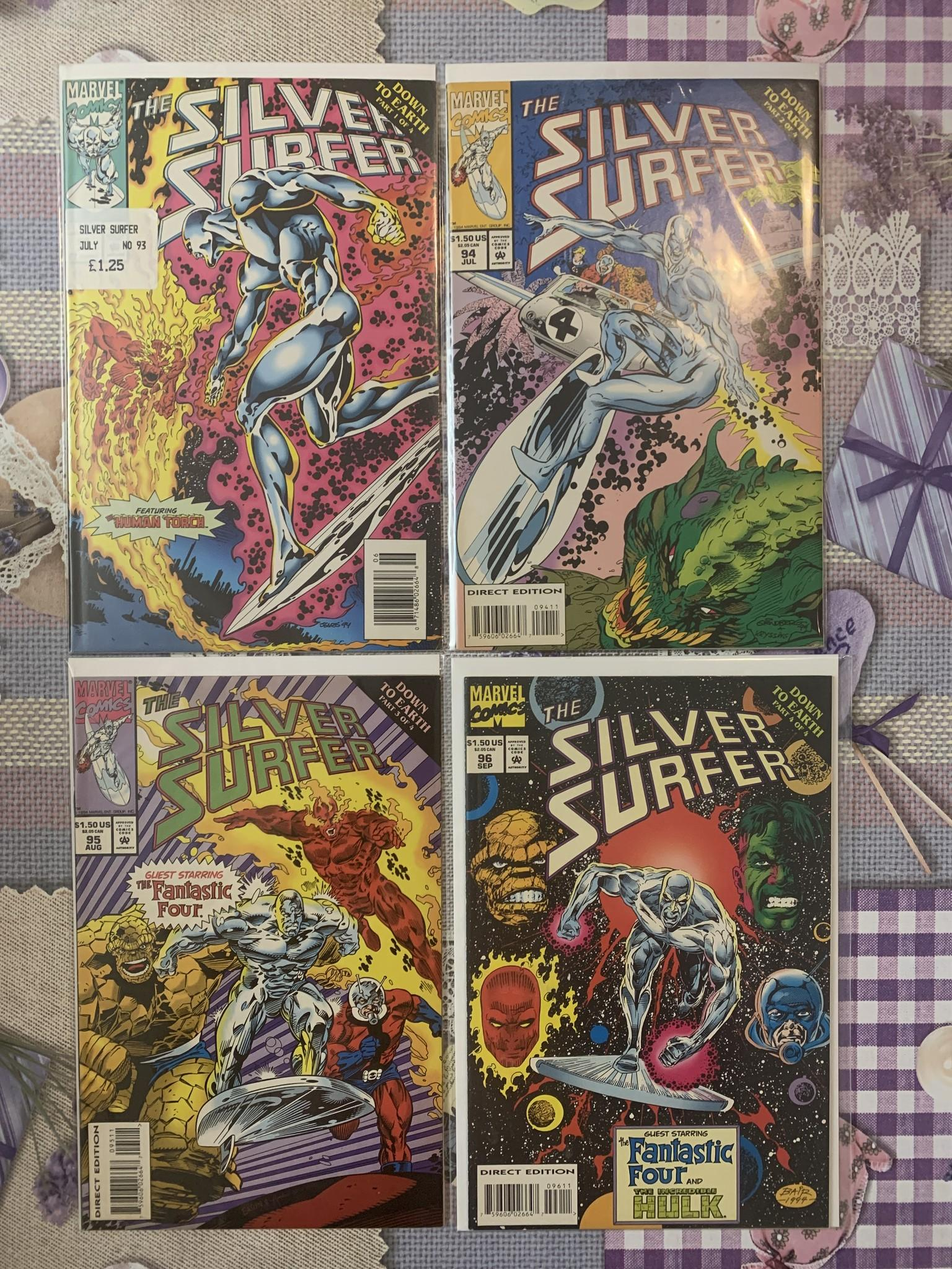comic: (61, 60, 444, 654), (447, 61, 823, 652), (454, 654, 838, 1229), (70, 654, 446, 1230)
